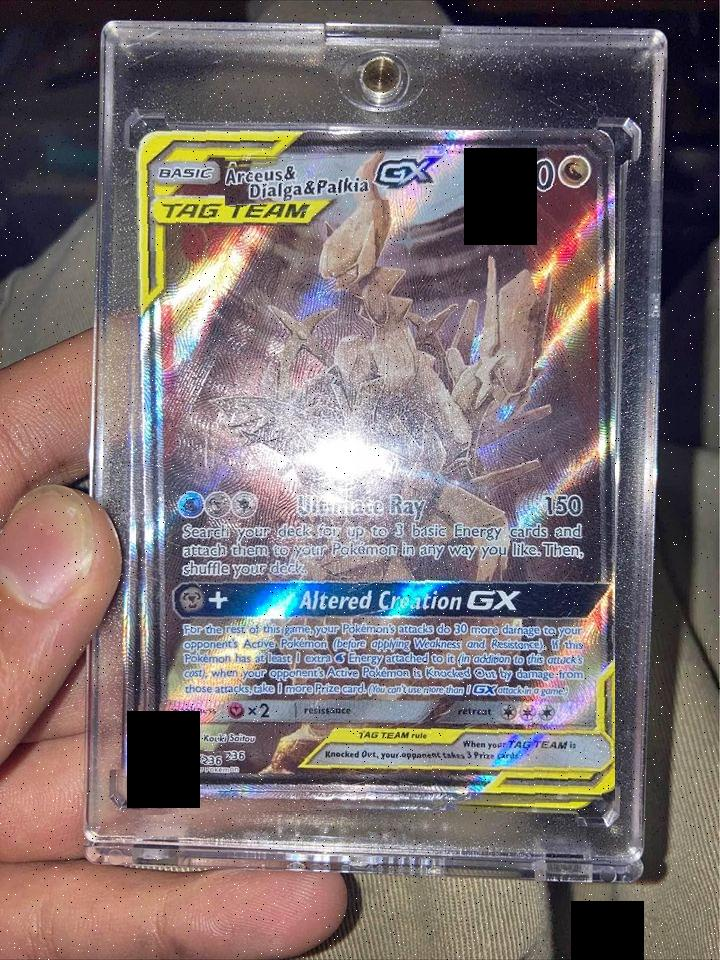card: (137, 130, 615, 802)
name: (225, 158, 447, 207)
set num: (175, 750, 226, 768)
set symbol: (152, 747, 176, 769)
